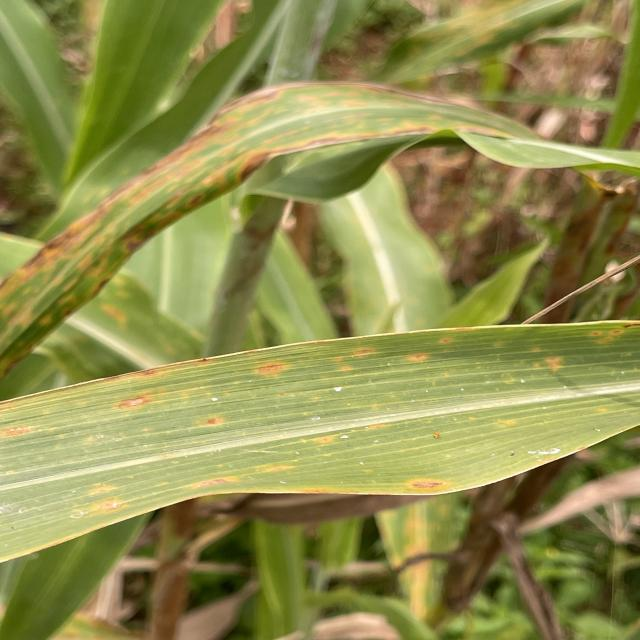millet_rust: (0, 62, 640, 382), (0, 317, 640, 572)
